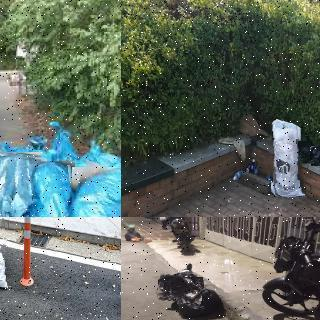Garbage: (267, 113, 304, 205), (0, 149, 44, 217), (67, 164, 121, 217), (30, 160, 77, 217), (177, 286, 227, 320), (157, 275, 204, 303), (0, 219, 11, 295), (297, 141, 313, 163), (310, 145, 320, 166)
